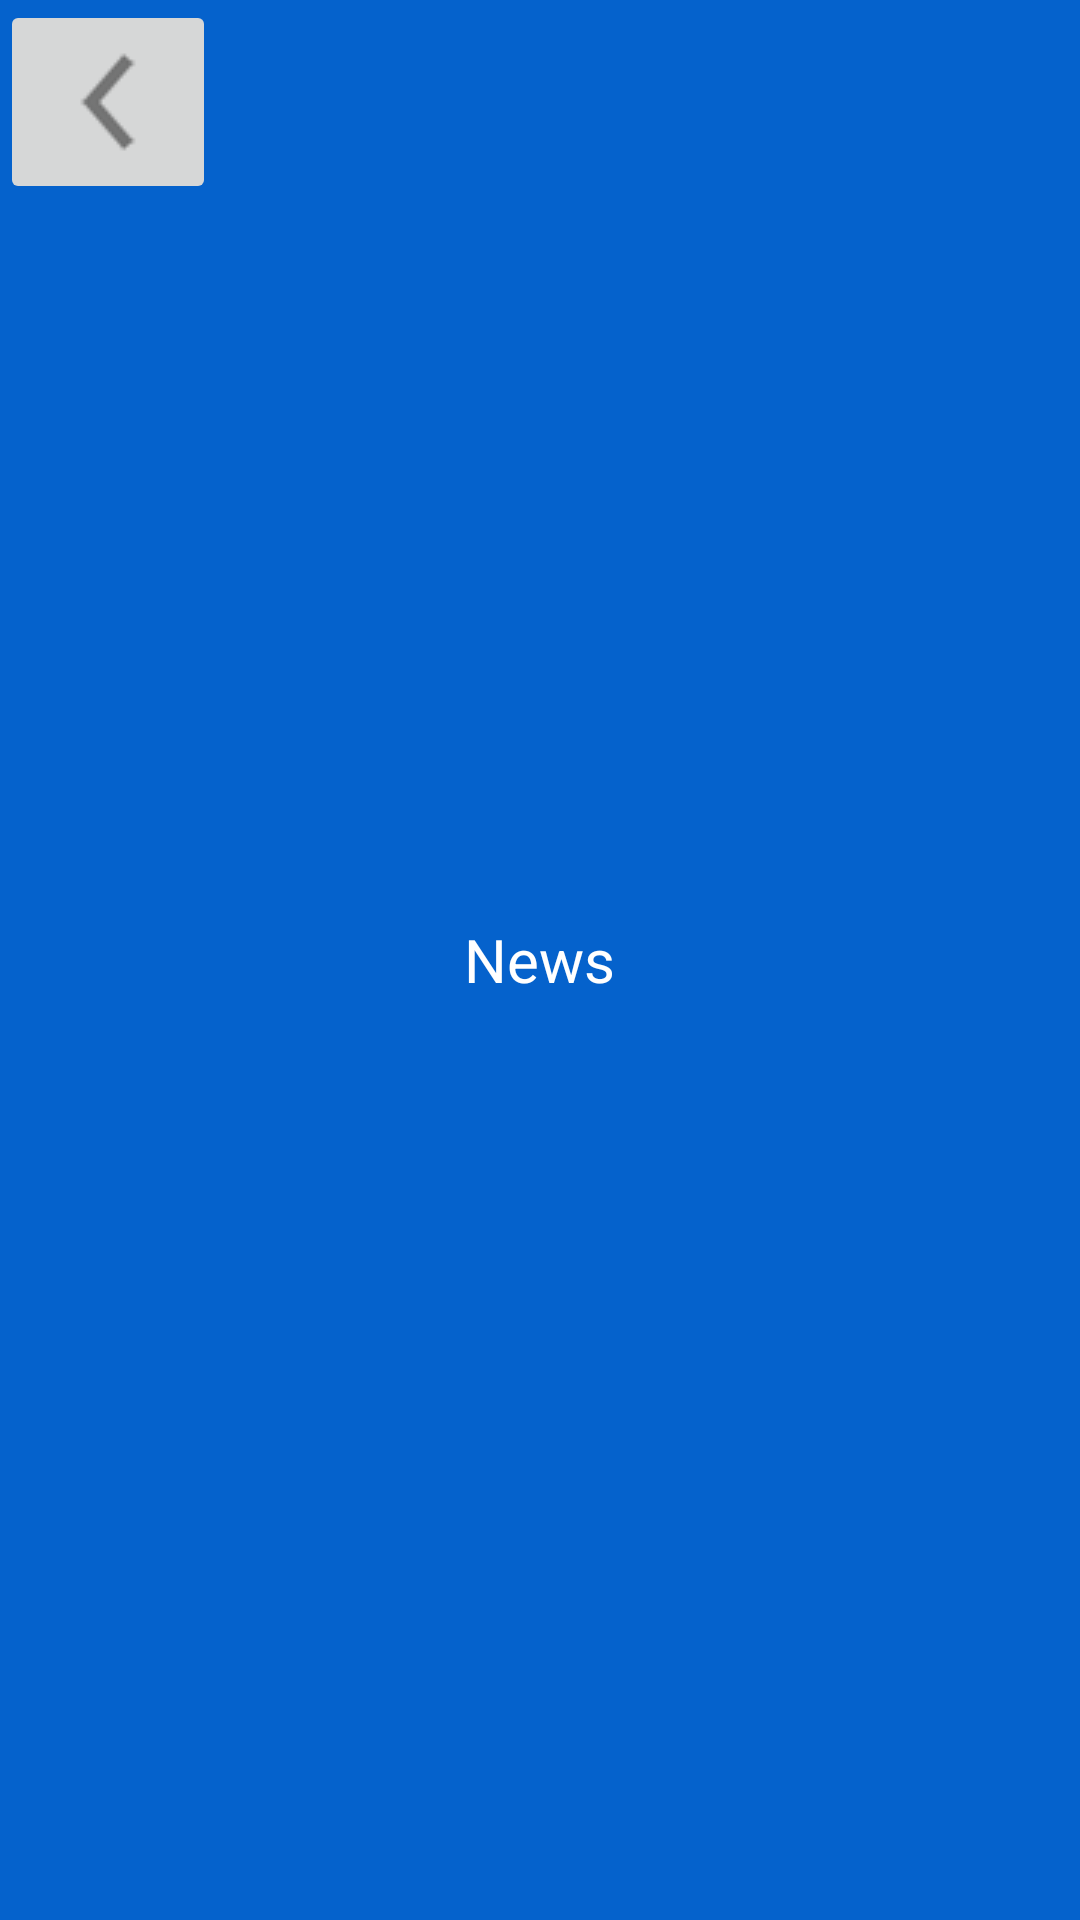

Icons on this 1080w x 1920h Android screen, each with the point to tap as [x,y]:
news detail back arrow: [108,102]
